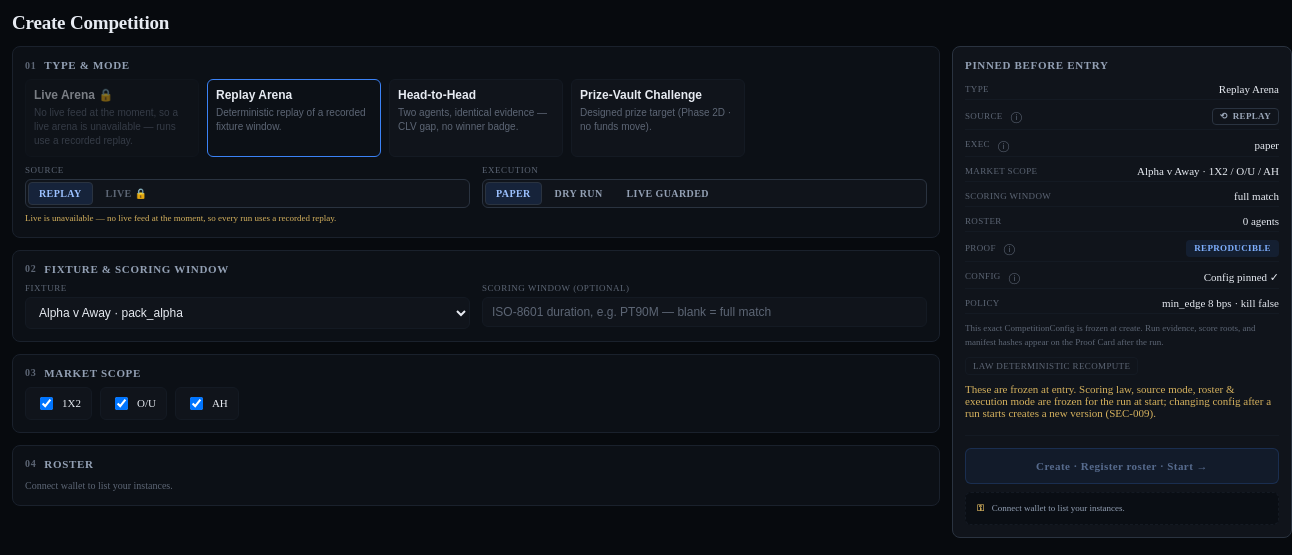
CreateCompetitionScreen — fixture picker (real replay-pack catalog, composite identity) › mock OFF: market_scope derives from the SELECTED composite row (participant1 v participant2)
Check: the text with test id "summary-market-scope" shows "Alpha v Away", box [1137,165,1279,177]
Select "Beta v Away · pack_beta" in the dropdown with test id "fixture-select". click: [248, 313]
box: [25,297,470,329]
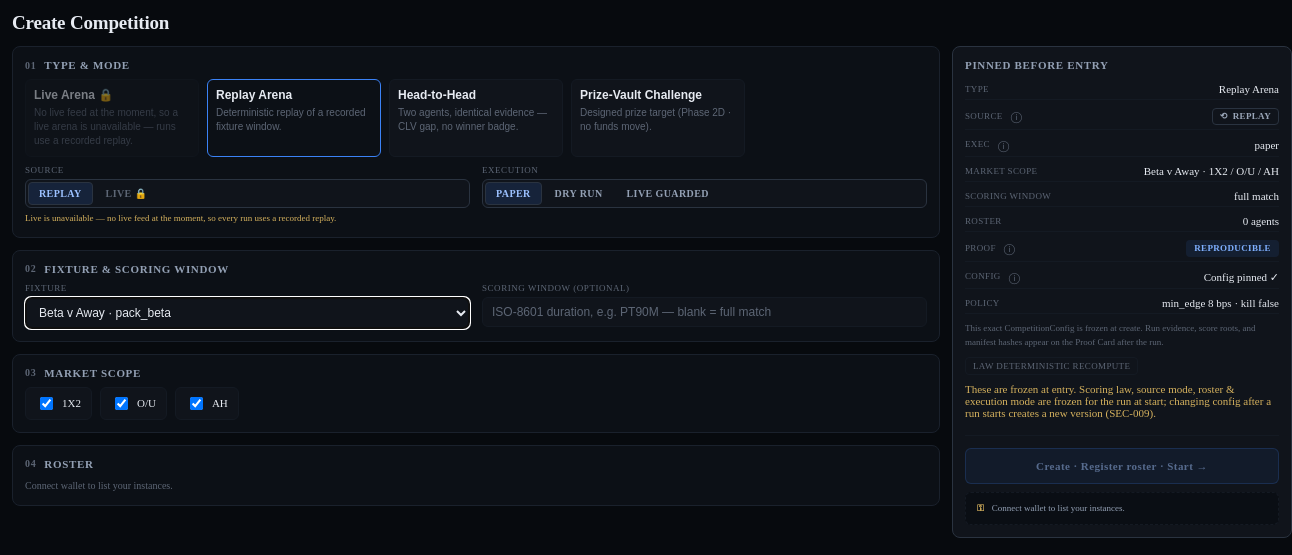
Check: the text with test id "summary-market-scope" shows "Beta v Away", box [1144,165,1279,177]
Check: the text with test id "summary-market-scope" no longer shows "Alpha v Away", box [1144,165,1279,177]
